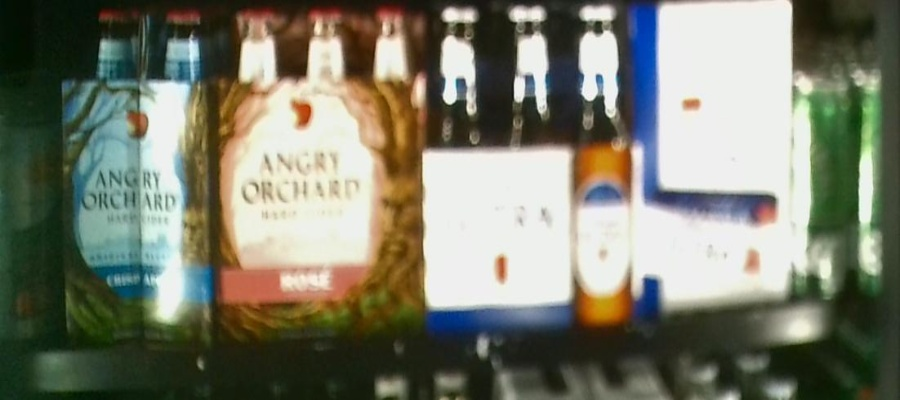bottle: (212, 10, 427, 333), (429, 7, 633, 325), (62, 12, 211, 350), (635, 2, 795, 315)
